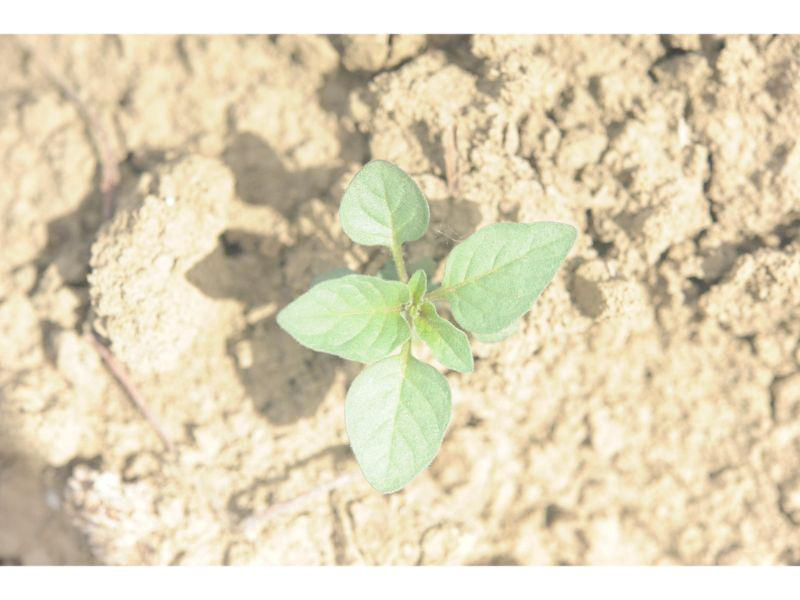nightshade: (278, 157, 578, 494)
